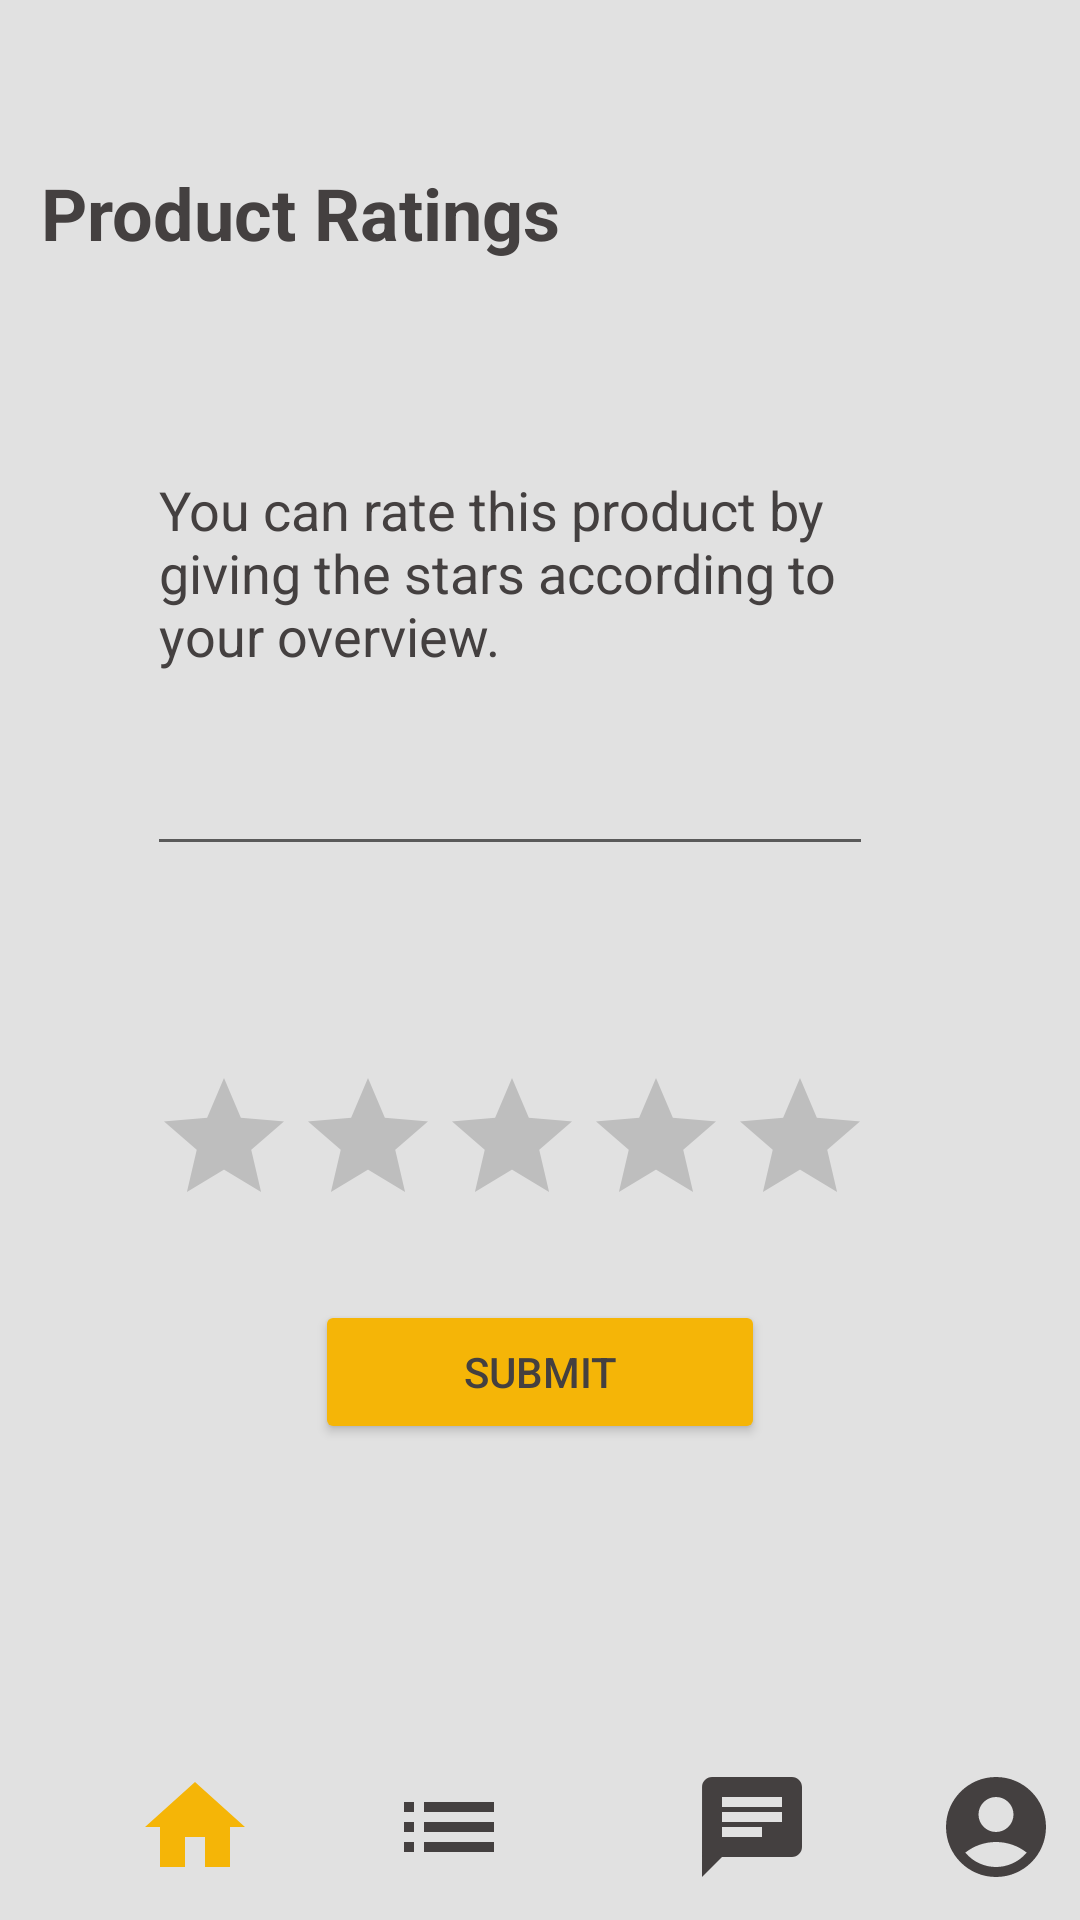

Screen size 1080×1920. Icon name, then its box in pixels as [x1=x1, y1=y1, x2=x2, y2=y2]:
account circle: [x1=946, y1=1777, x2=1046, y2=1877]
chat: [x1=702, y1=1777, x2=802, y2=1877]
home: [x1=145, y1=1782, x2=245, y2=1867]
list: [x1=404, y1=1802, x2=494, y2=1852]
